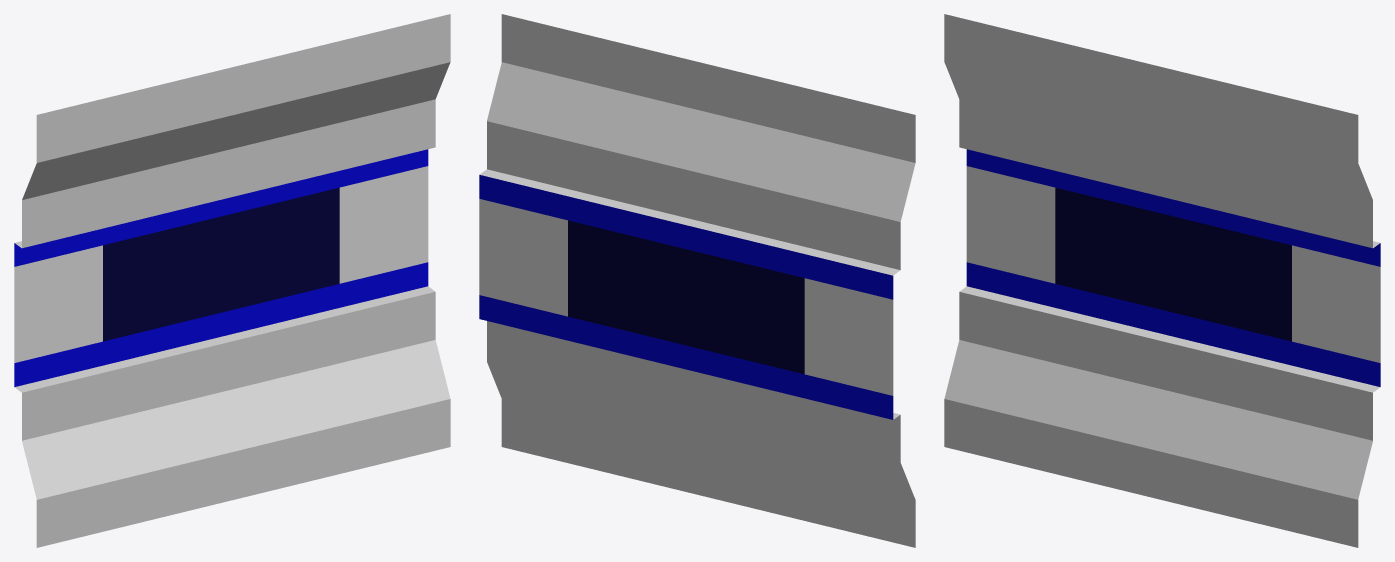
File: Wall001Window.fbx
3 renders of one model, left to right at view 1: azimuth 30°, elevation 25°; view 2: azimuth 150°, elevation 25°; view 3: azimuth 330°, elevation 25°, orthographic.
Visible parts, largest first — view 1: Wall001Window; view 2: Wall001Window; view 3: Wall001Window.
Part boxes in pixels (x1,y1,x2,y2): Wall001Window: [14, 14, 450, 547]; Wall001Window: [479, 14, 915, 547]; Wall001Window: [944, 14, 1380, 547].
Bounding box in the file's own units: 2 × 2 × 0.1875.
